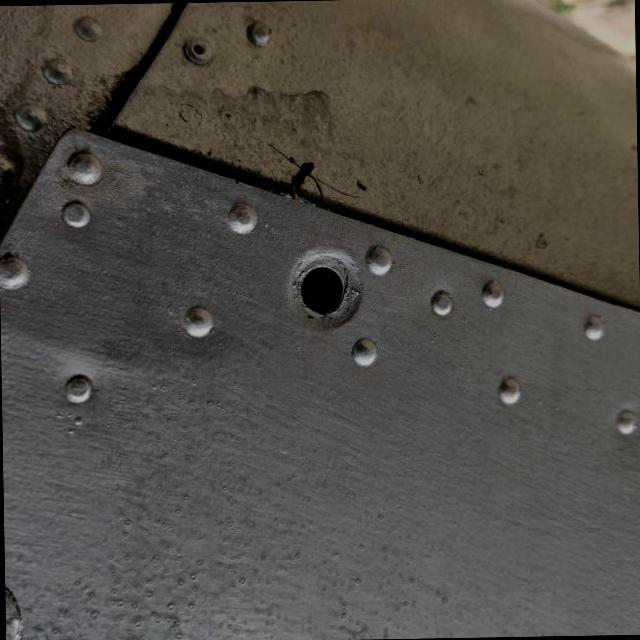missing-head: (241, 200, 417, 366)
